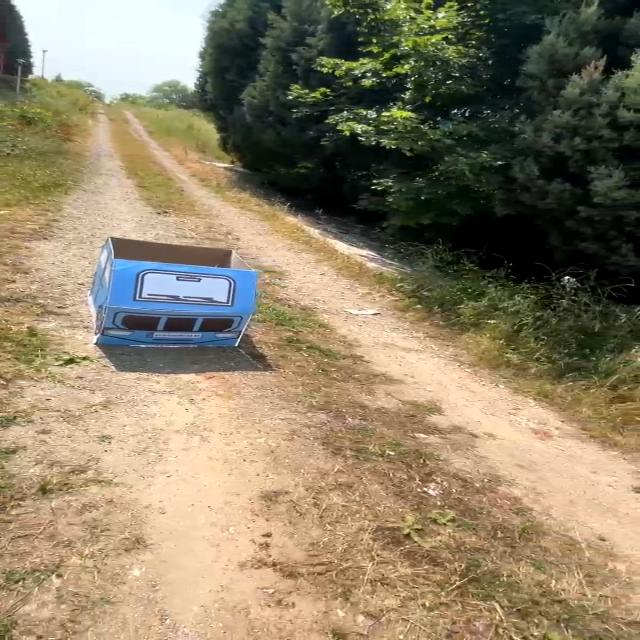blue_car: (56, 217, 292, 366)
